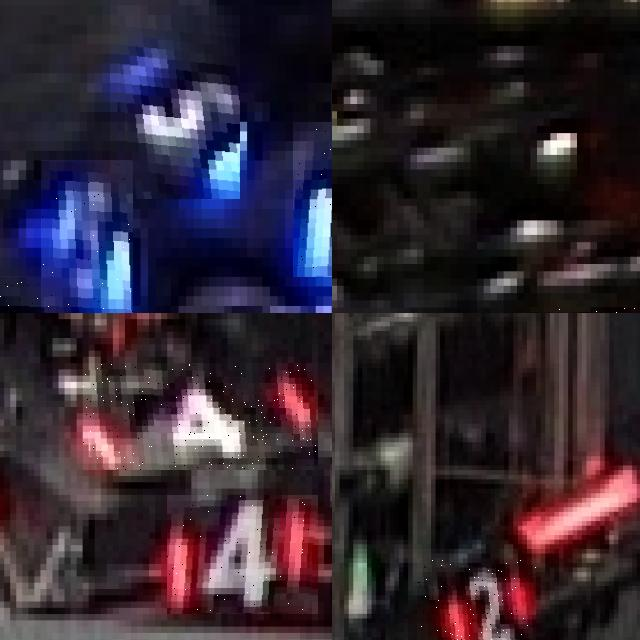B5: (110, 15, 240, 199), (41, 160, 132, 313), (292, 122, 332, 277)
R2: (417, 558, 536, 640)
R4: (83, 363, 318, 470), (167, 495, 318, 614)
